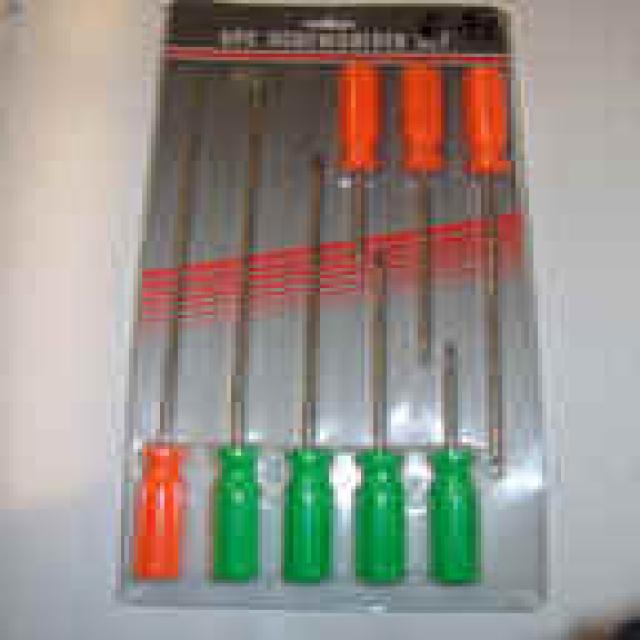screw driver: (113, 72, 218, 590), (278, 146, 348, 586), (352, 252, 414, 622), (424, 342, 503, 596)
